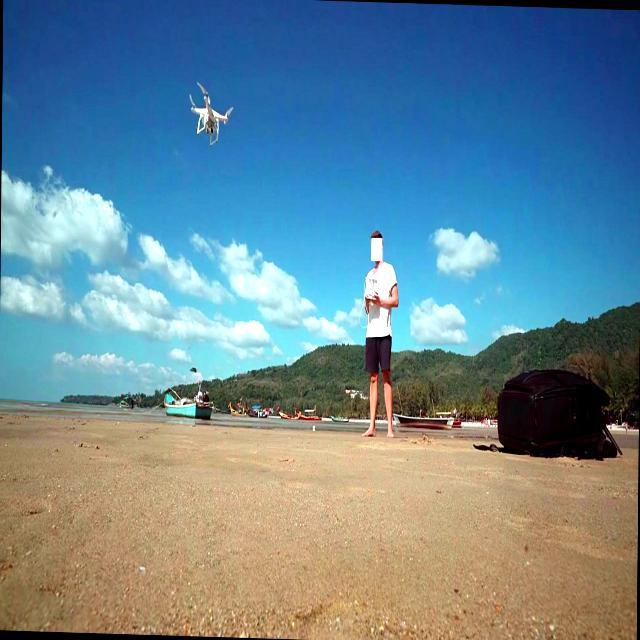drone: (187, 80, 236, 150)
